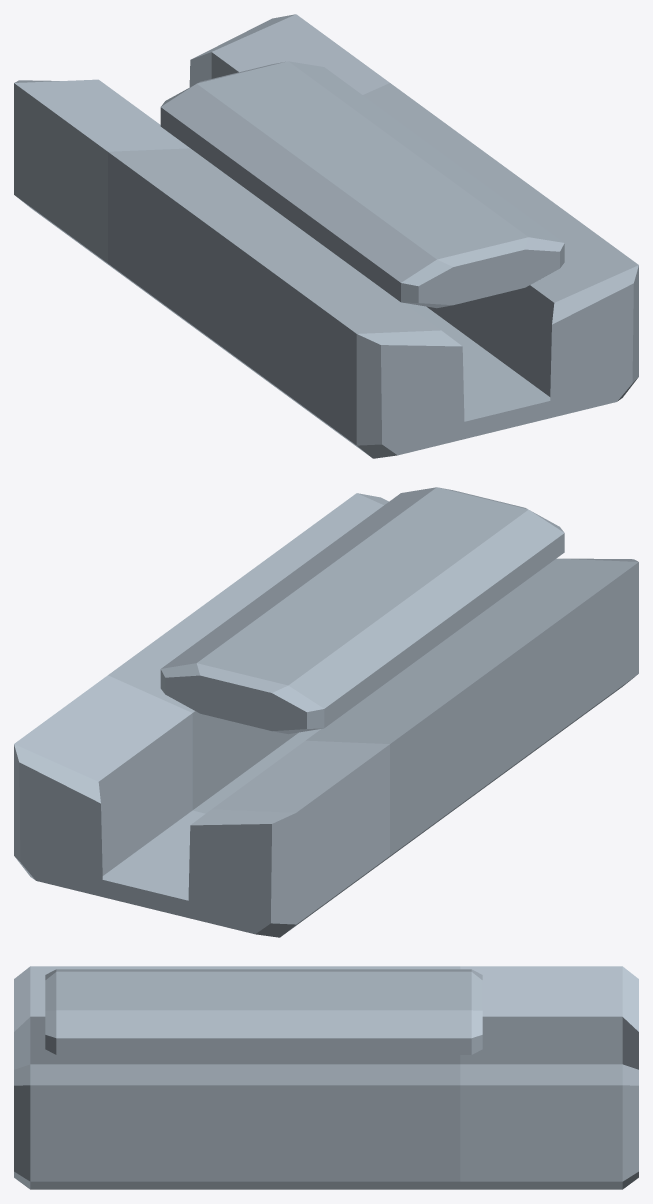
Rendered from pillar_transport_b.glb.
3 views of the same model, one above another, from view 1: azimuth 30°, elevation 25°; view 2: azimuth 150°, elevation 25°; view 3: azimuth 270°, elevation 25° (orthographic). The views are drawn at different scales.
Parts seen in each view (by area): view 1: pillar_transport_b; view 2: pillar_transport_b; view 3: pillar_transport_b.
Part boxes in pixels (x1,y1,x2,y2): pillar_transport_b: (14, 14, 638, 458); pillar_transport_b: (14, 487, 638, 937); pillar_transport_b: (14, 966, 638, 1189).
Bounding box in the file's own units: 4.1 × 2.35 × 9.1.
